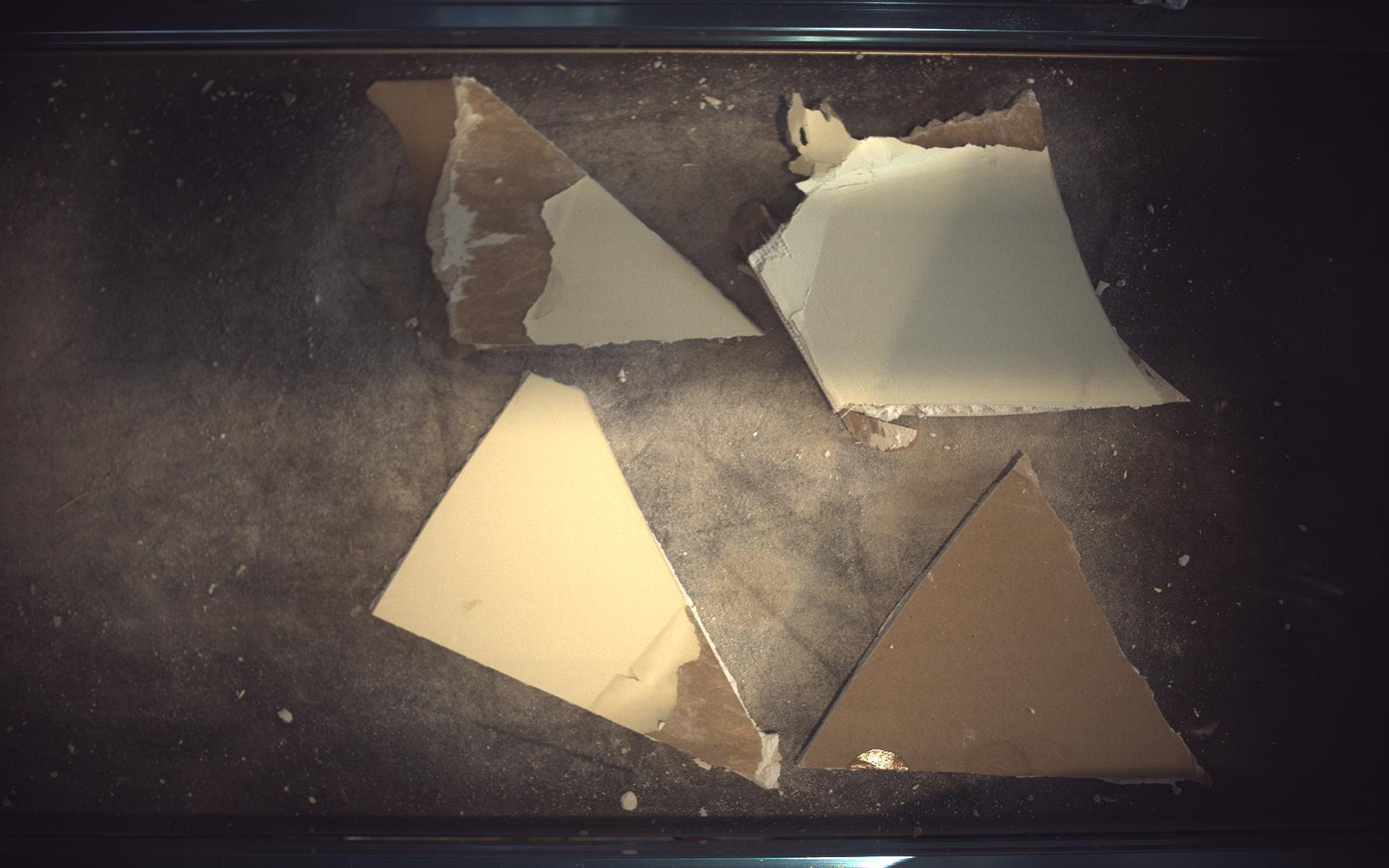gypsum_board: (373, 374, 782, 790), (750, 90, 1189, 450), (800, 455, 1208, 784), (367, 76, 763, 348)
